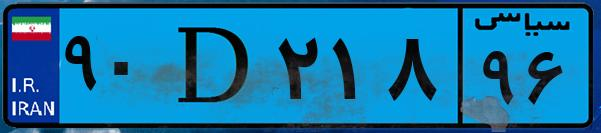0: (110, 28, 158, 98)
1: (330, 28, 385, 110)
2: (270, 28, 330, 110)
6: (525, 38, 570, 115)
8: (385, 28, 445, 110)
9: (57, 26, 110, 100), (475, 38, 525, 113)
D: (158, 12, 270, 120)
